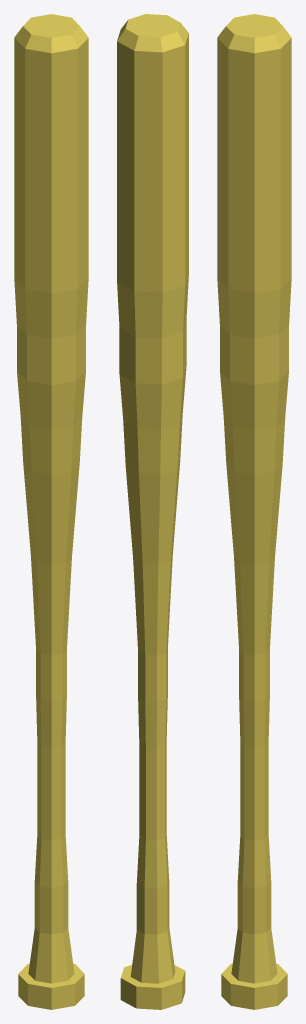
The model's file is bat.gltf.
3 views of the same model, side by side, from view 1: azimuth 90°, elevation 25°; view 2: azimuth 150°, elevation 25°; view 3: azimuth 270°, elevation 25° (orthographic).
Visible parts, largest first — view 1: cylinder; view 2: cylinder; view 3: cylinder.
Boxes of the visible parts, <box> form: cylinder: <box>14,14,88,1009</box>; cylinder: <box>117,14,188,1009</box>; cylinder: <box>217,14,291,1009</box>.
Size of the model in its own units: 0.0908 by 1.31 by 0.0908.
Materials: 1 (1 with a texture image).
